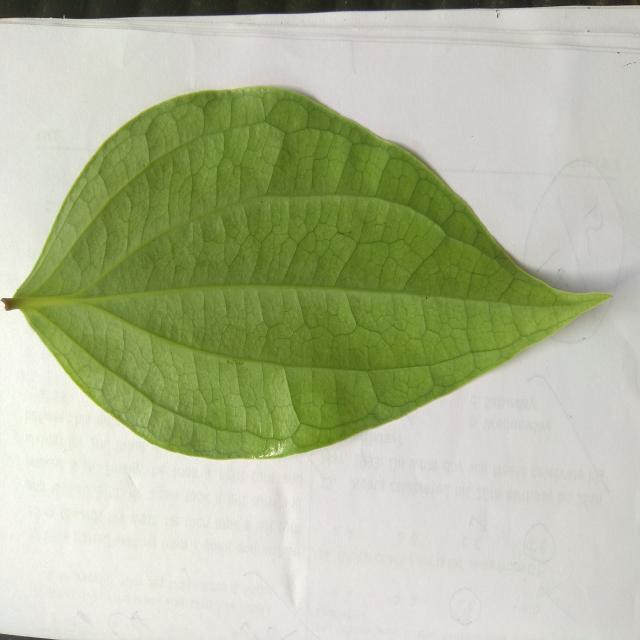pepper: (4, 87, 608, 458)
